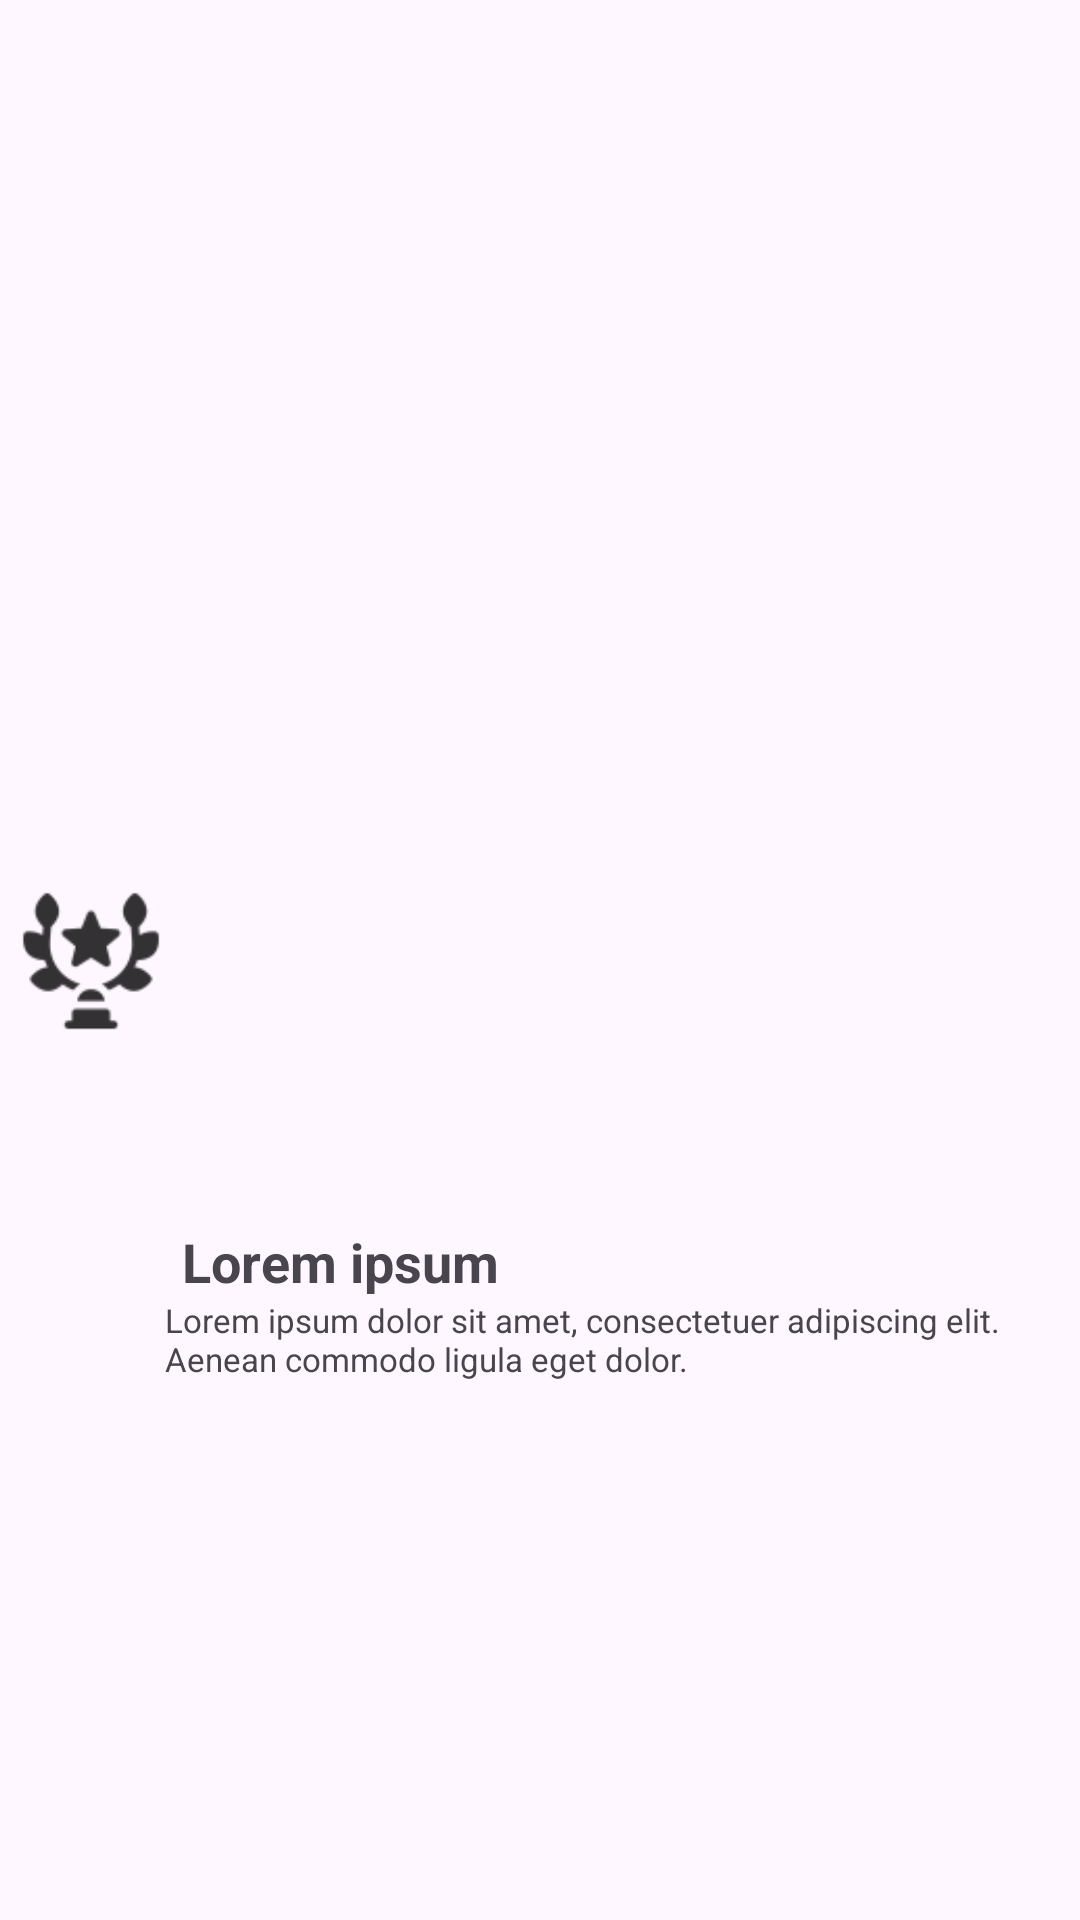

Point at icon controls on the screen. Image size 1080 x 1920, points as point (x, y).
award: point (91, 961)
